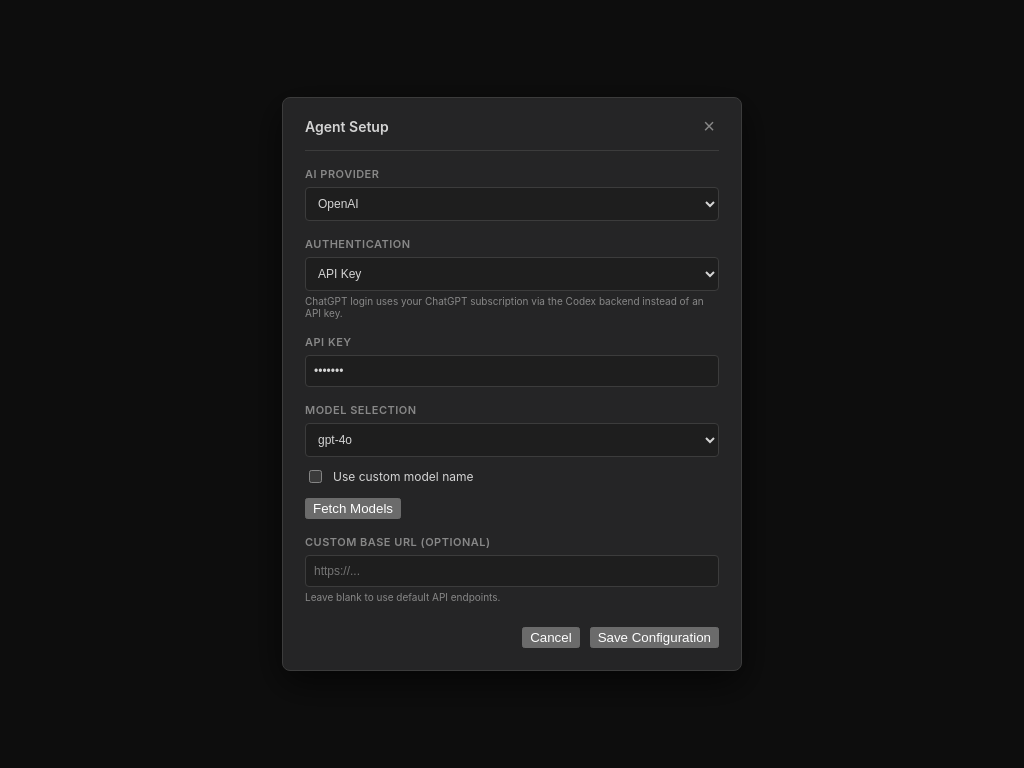
AISettingsModal › keeps curated fallback models and shows an inline error when fetch fails
What coordinates should you click on to do the following:
click the button "Fetch Models"
I would click on:
 (353, 508)
Its box is 305,498 -> 401,519.
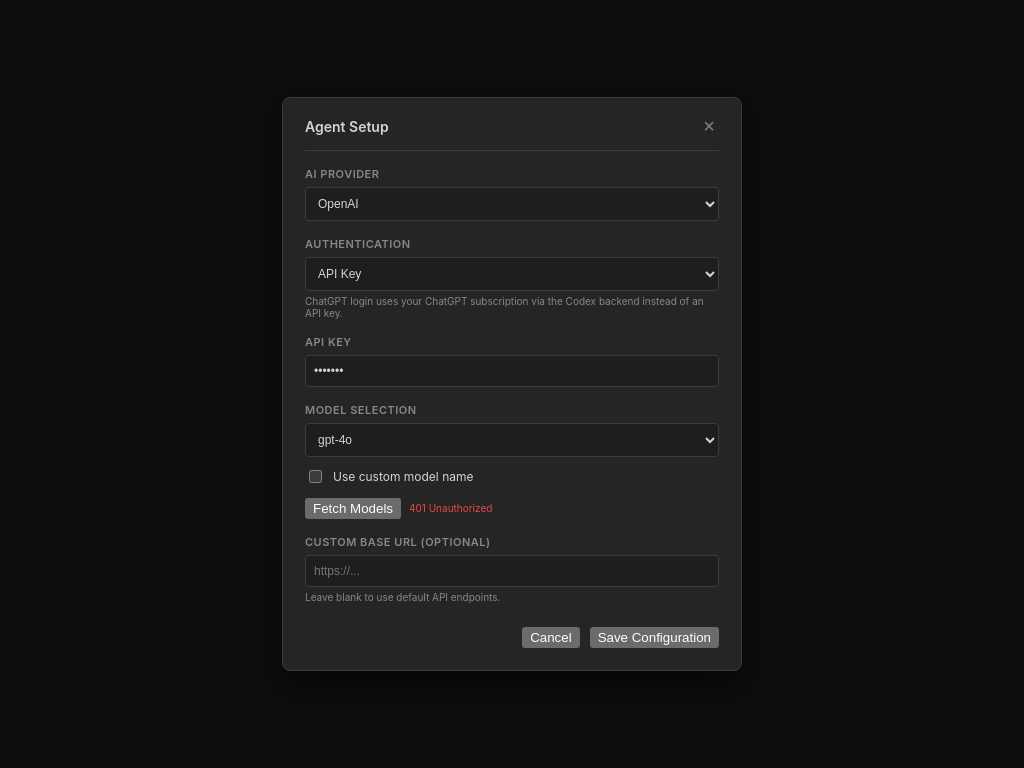
Now the text "401 Unauthorized" is shown, box 409,502 -> 492,514
